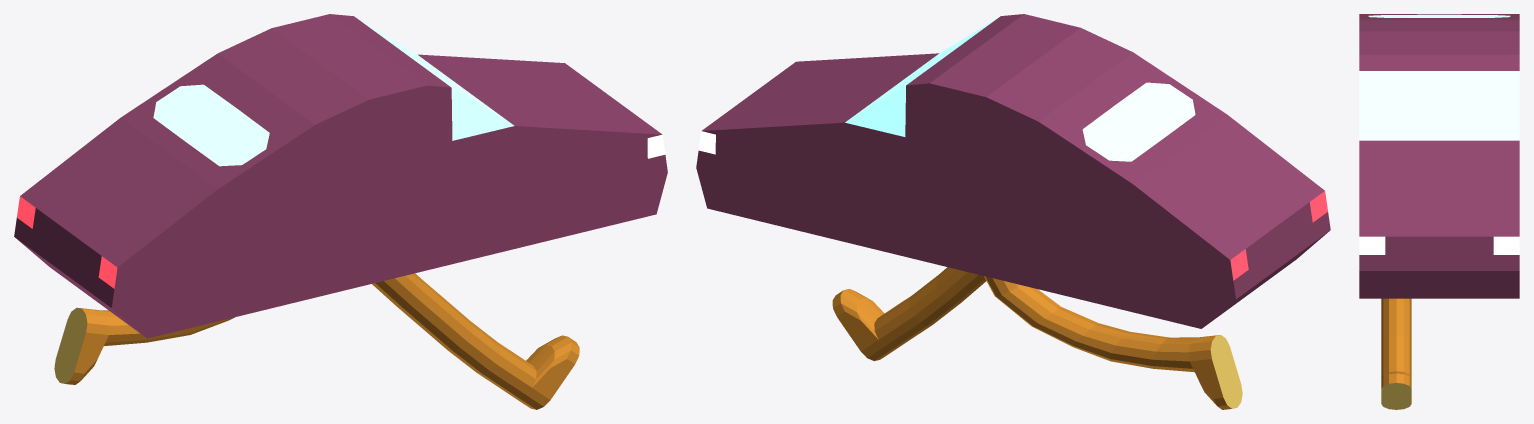
File: Tutur 1.fbx
3 renders of one model, left to right at view 1: azimuth 30°, elevation 25°; view 2: azimuth 150°, elevation 25°; view 3: azimuth 270°, elevation 25°, orthographic. The views are drawn at different scales.
Parts seen in each view (by area): view 1: Cube.001, Cylinder.003, Cylinder.002; view 2: Cube.001, Cylinder.002, Cylinder.003; view 3: Cube.001, Cylinder.003.
Part boxes in pixels (x1,y1,x2,y2): Cube.001: (14, 14, 667, 338); Cylinder.003: (372, 273, 579, 409); Cylinder.002: (54, 307, 234, 384); Cube.001: (696, 14, 1330, 328); Cylinder.002: (984, 276, 1242, 409); Cylinder.003: (832, 267, 986, 360); Cube.001: (1359, 14, 1519, 298); Cylinder.003: (1381, 298, 1411, 409).
Size of the model in its own units: 516 by 328 by 157.
